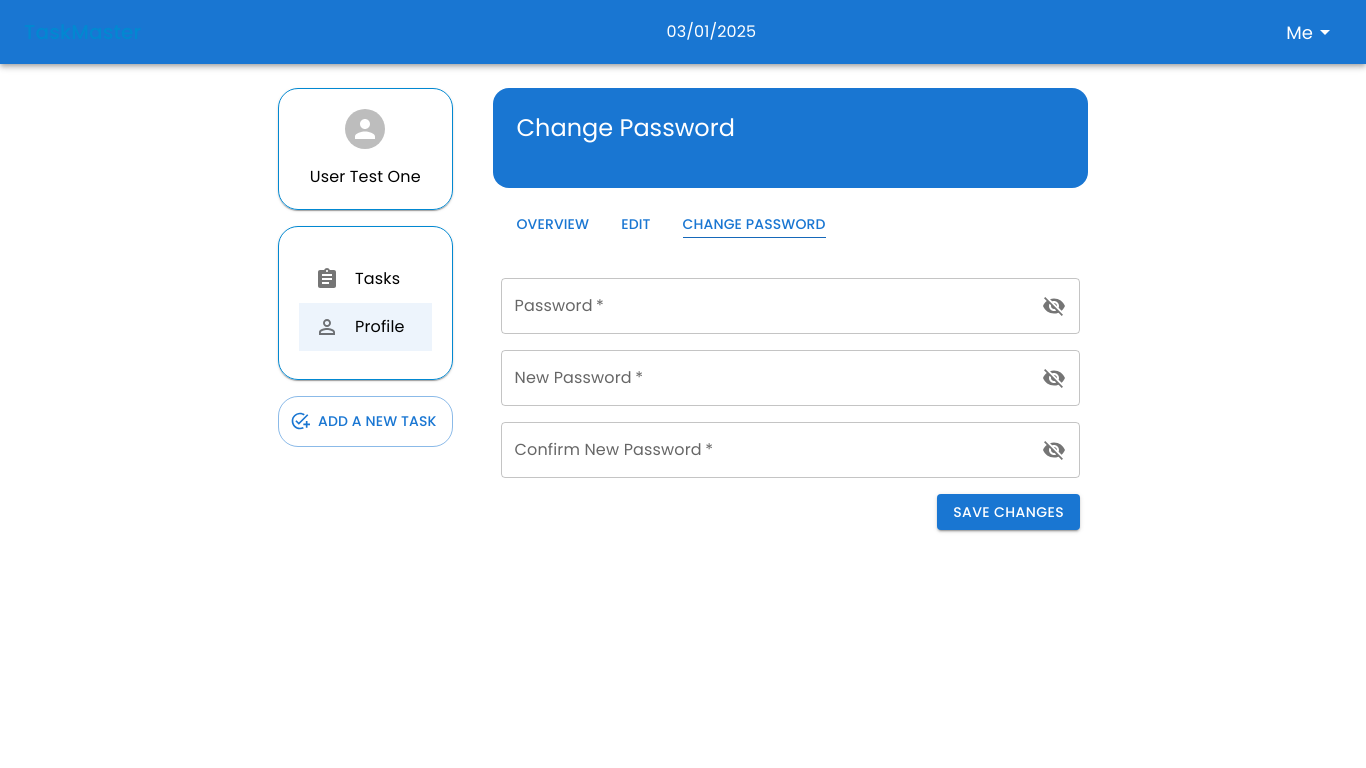
Test: Change Password component testing › Should return message: `Password must be at least 8 characters long.`
Expected: the password field labelled "New Password *" is shown, x1=500 y1=350 x2=1034 y2=406
Expected: the password field labelled "Confirm New Password *" is shown, x1=500 y1=422 x2=1034 y2=478
Type "Password&12345" into the password field labelled "Password *" at [767, 306], box x1=500 y1=278 x2=1034 y2=334
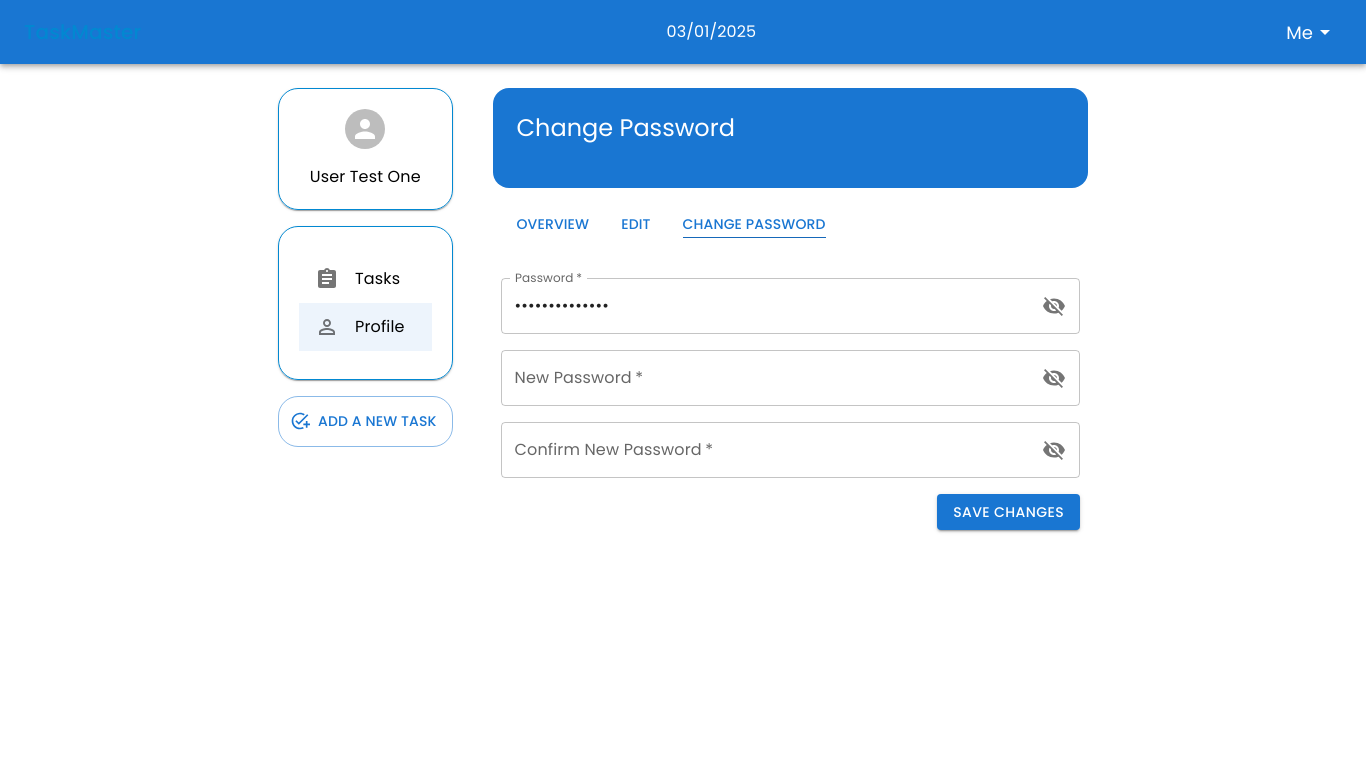
Type "Pass" into the password field labelled "New Password *" at [767, 378], box x1=500 y1=350 x2=1034 y2=406
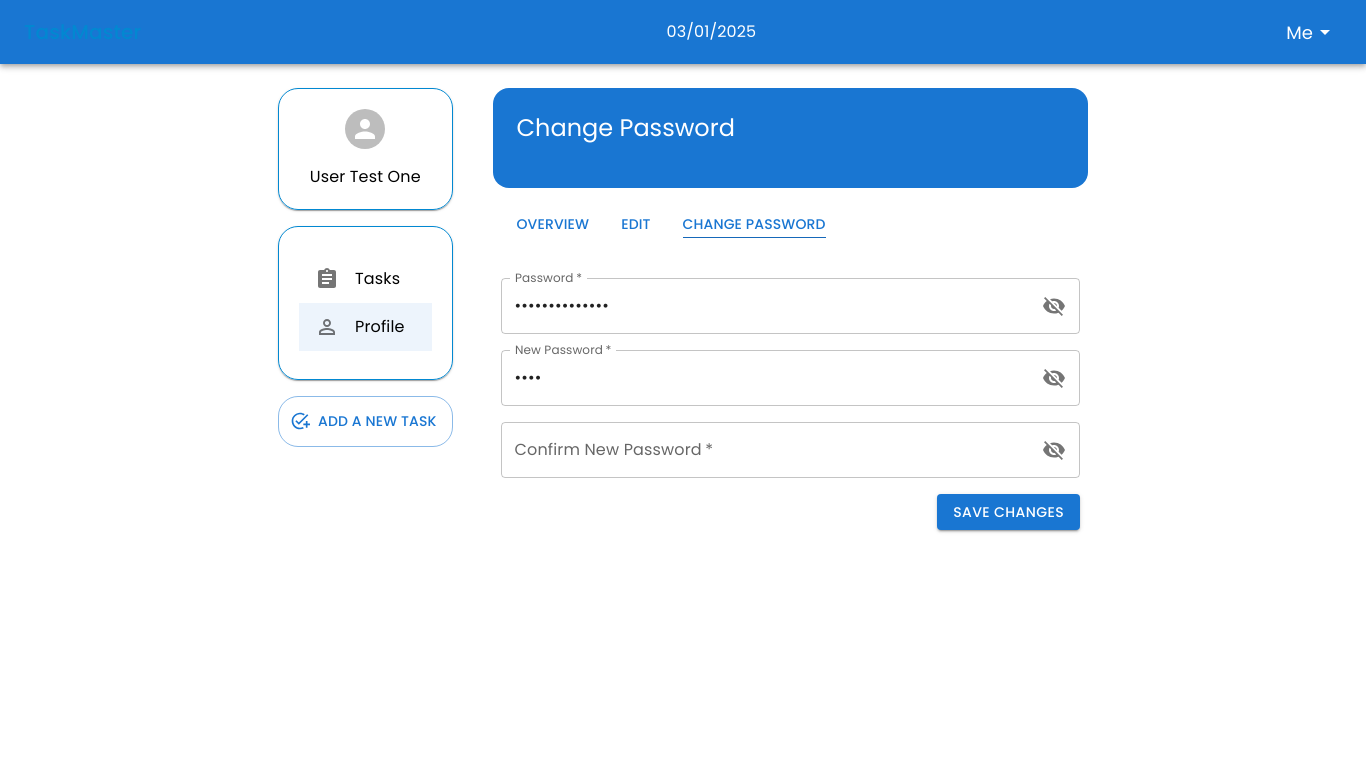
Type "Pass" into the password field labelled "Confirm New Password *" at [767, 450], box x1=500 y1=422 x2=1034 y2=478
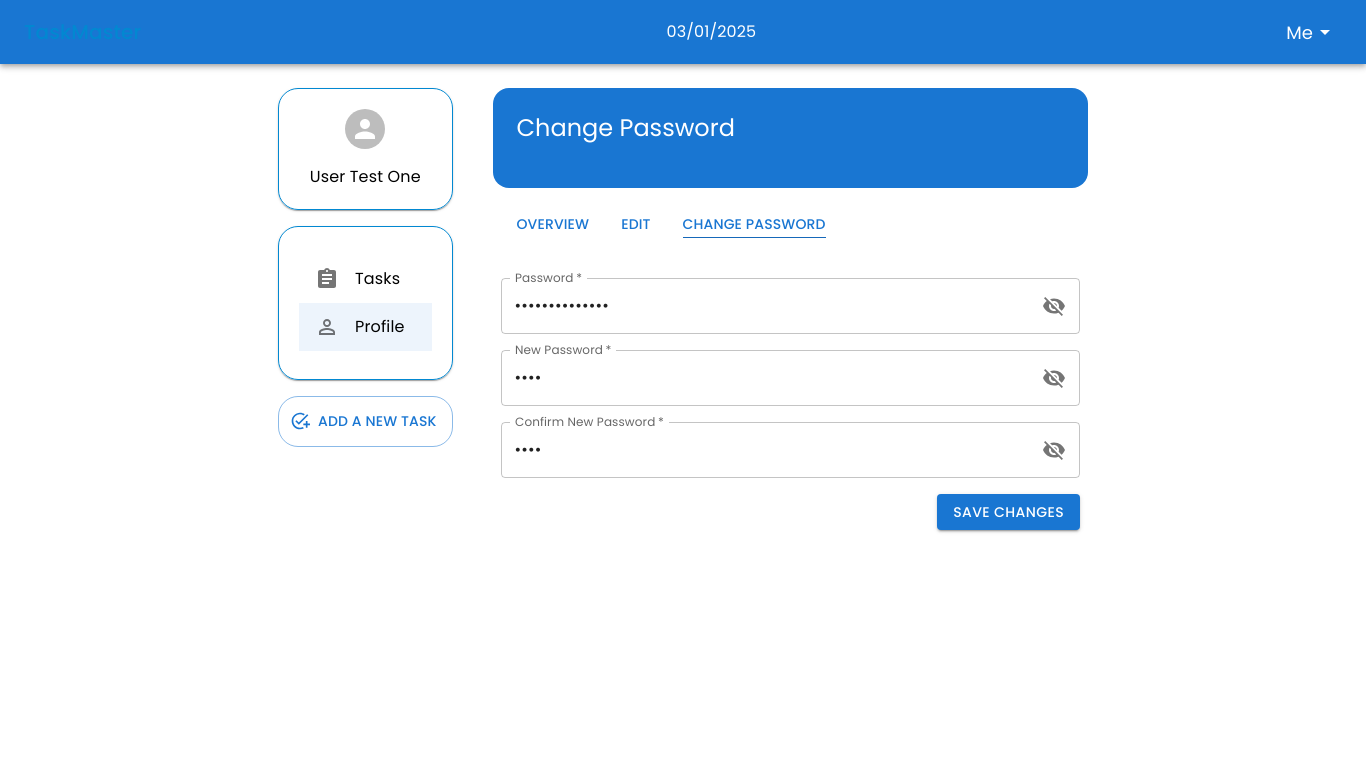
Click the button "Save changes" at [1009, 512], box x1=937 y1=494 x2=1080 y2=530
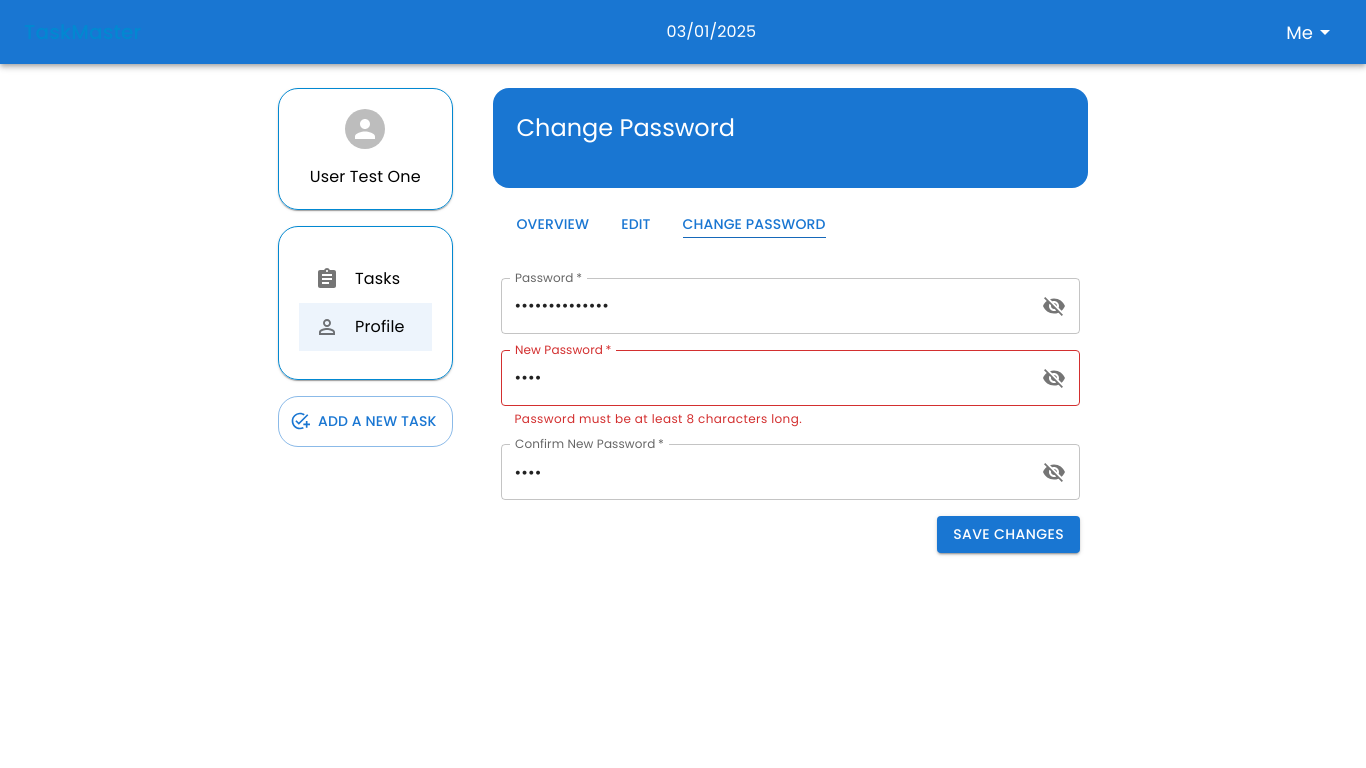
Expected: the text "Password must be at least 8 characters long." is shown, x1=514 y1=410 x2=802 y2=426
